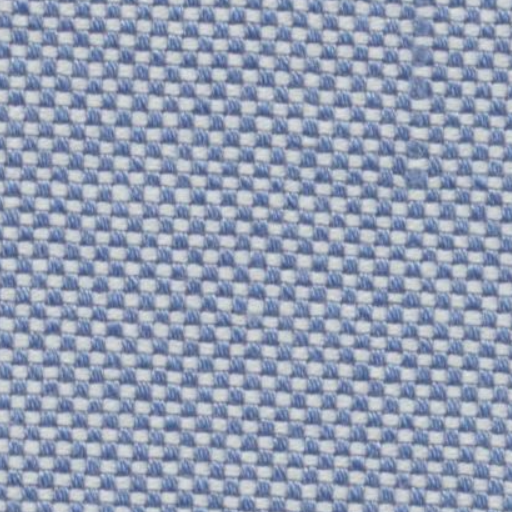TuoSha: (384, 16, 460, 287)
